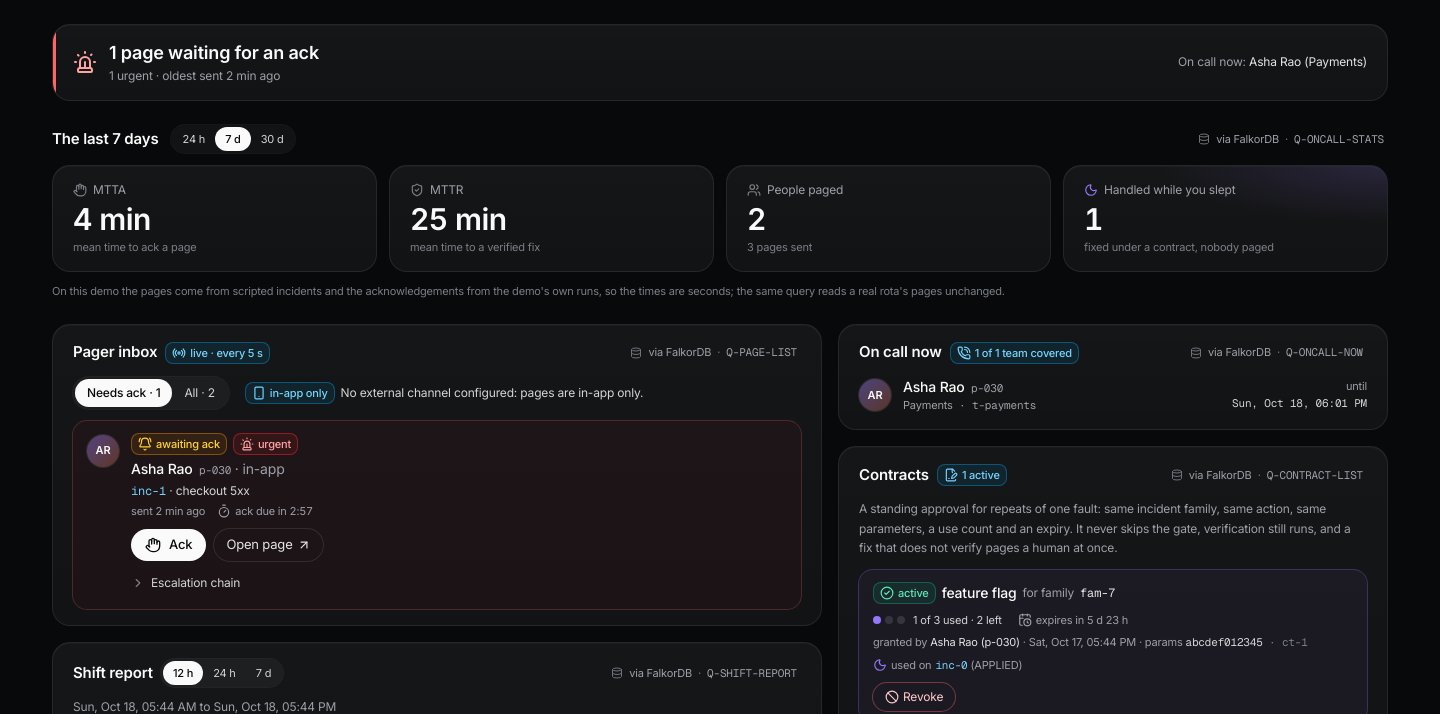
/oncall › reads the escalation chain on first open
The width and height of the screenshot is (1440, 714).
Click the button "Escalation chain" at (186, 583), box top-left (127, 569), bottom-right (244, 597)
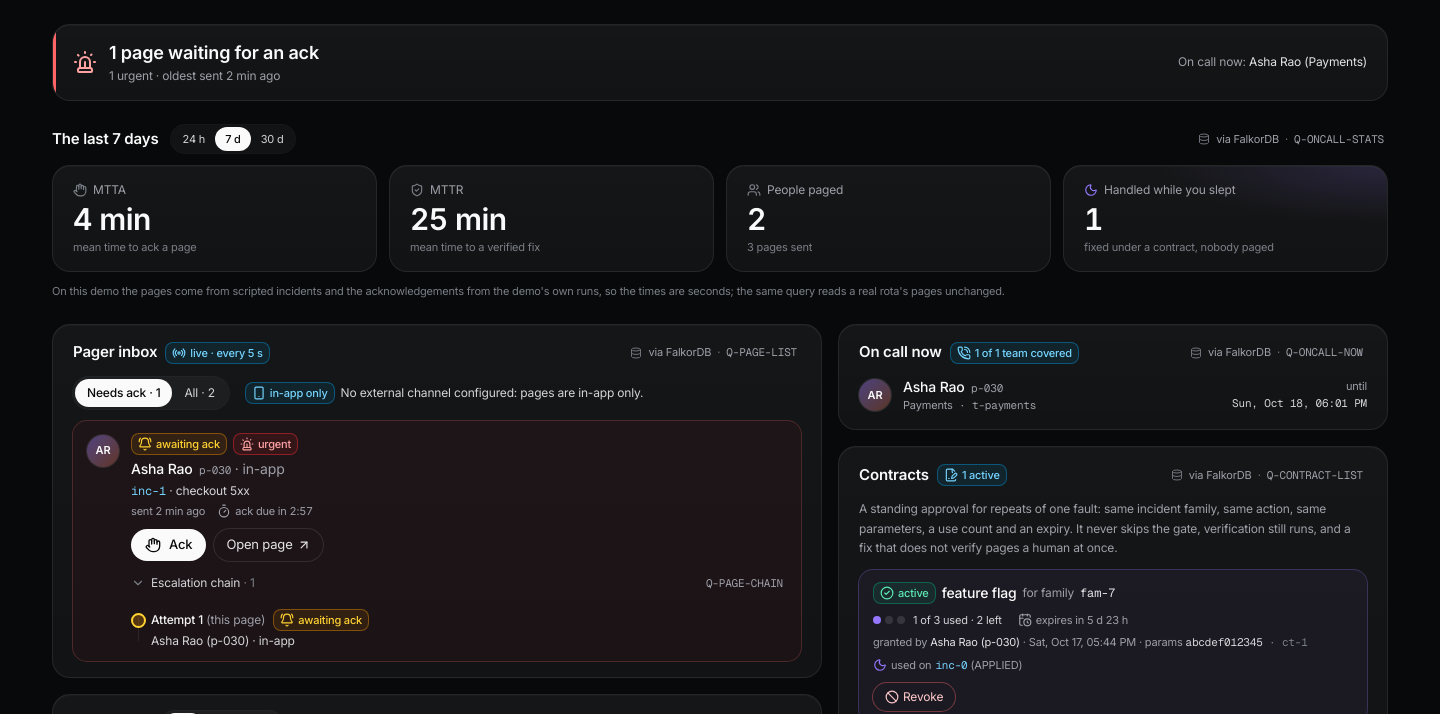
Expected: the text "Attempt 1 (this page)" is shown, top-left (151, 612), bottom-right (265, 628)
